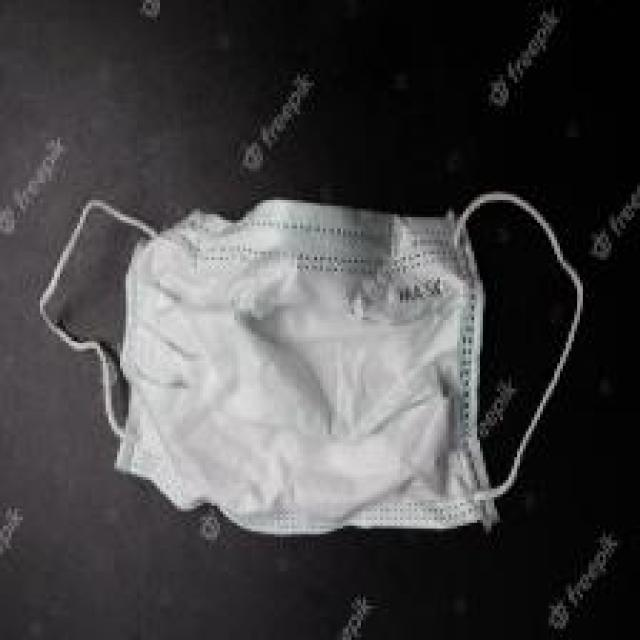Mask: (34, 160, 587, 566)
